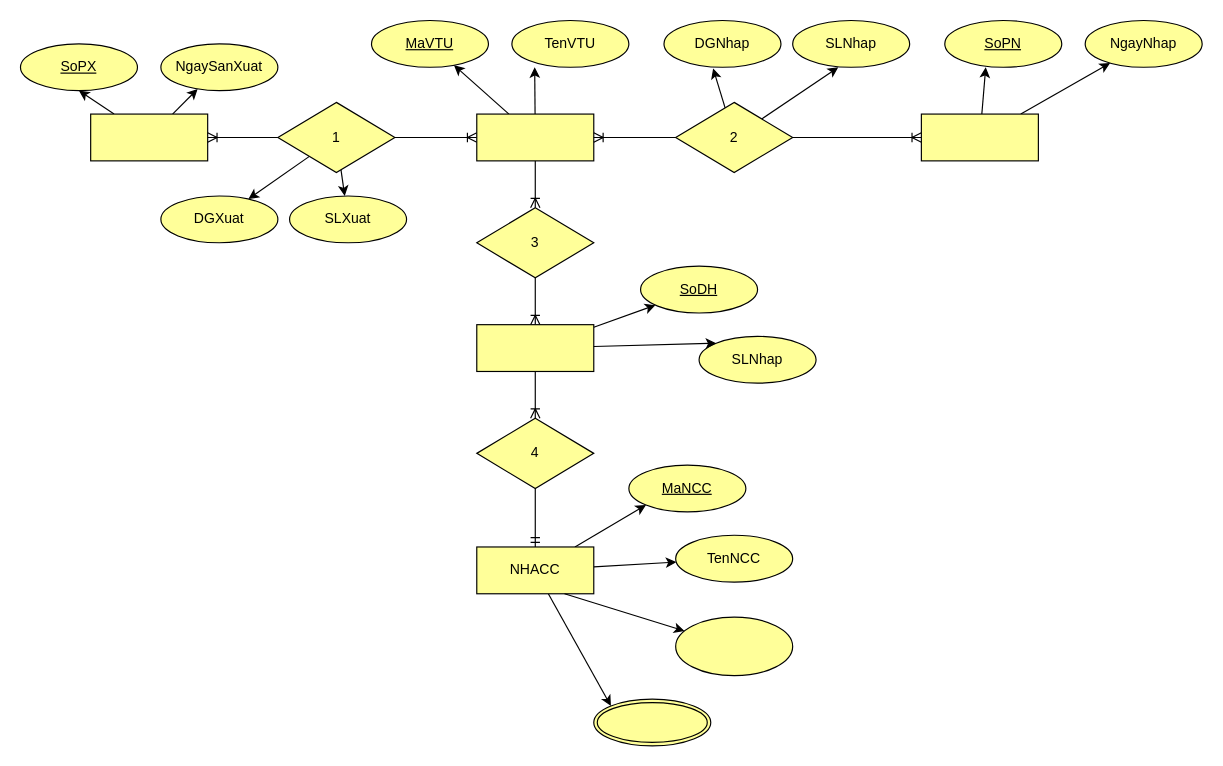
This 1223x766 diagram has some shape labels left out. Each missing label, with the centre of its shape:
DiaChi: (x=734, y=646)
DONDH: (x=535, y=347)
PHIEUNHAP: (x=979, y=137)
PHIEUXUAT: (x=149, y=137)
SDT: (x=652, y=722)
VATTU: (x=535, y=137)
